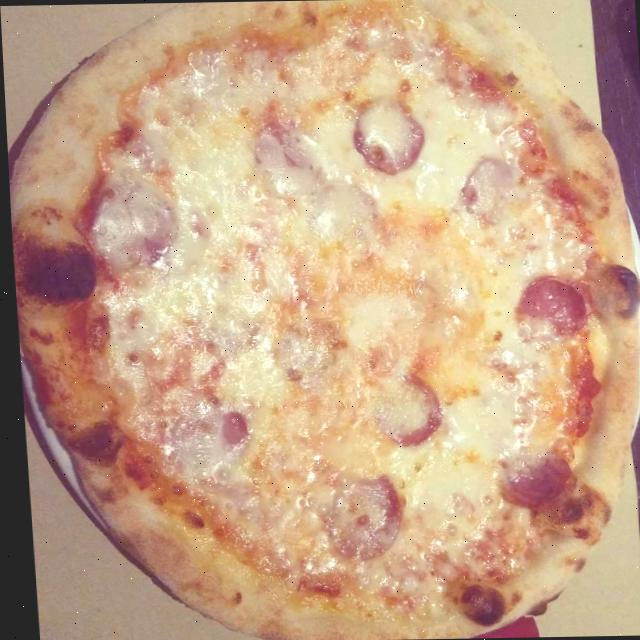pepperoni: (315, 473, 403, 568), (89, 188, 180, 266), (347, 100, 427, 175), (511, 274, 589, 346), (489, 448, 568, 509), (375, 378, 438, 446), (173, 406, 244, 464), (455, 155, 515, 221)
pizza: (0, 0, 640, 640)
